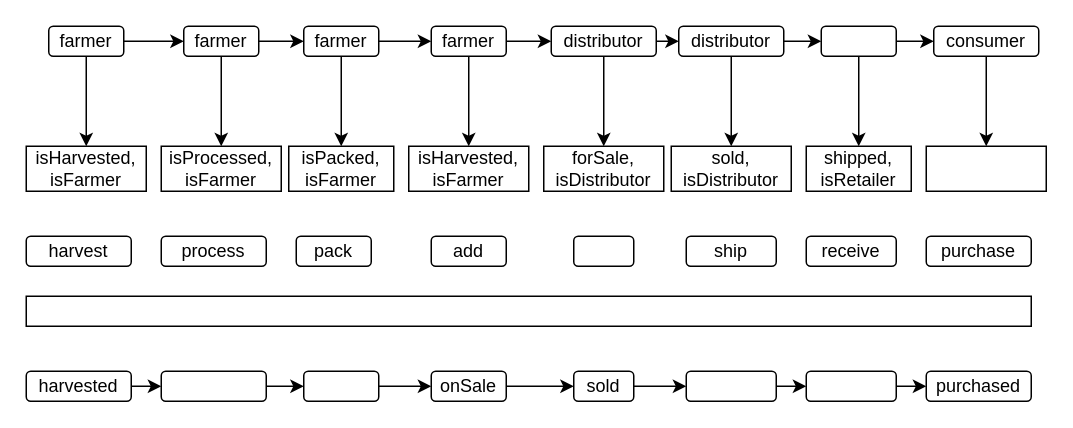
Image size: 1073x428. Some labels were removed from this diagram. The centre of each missing label's shape, as x and y in pixels:
"buy" belongs at pixel 603 250.
"Coffee State" belongs at pixel 528 310.
"packed" belongs at pixel 340 385.
"processed" belongs at pixel 213 385.
"received" belongs at pixel 850 385.
"received, isConsumer" belongs at pixel 985 168.
"retailer" belongs at pixel 858 40.
"shipped" belongs at pixel 730 385.
